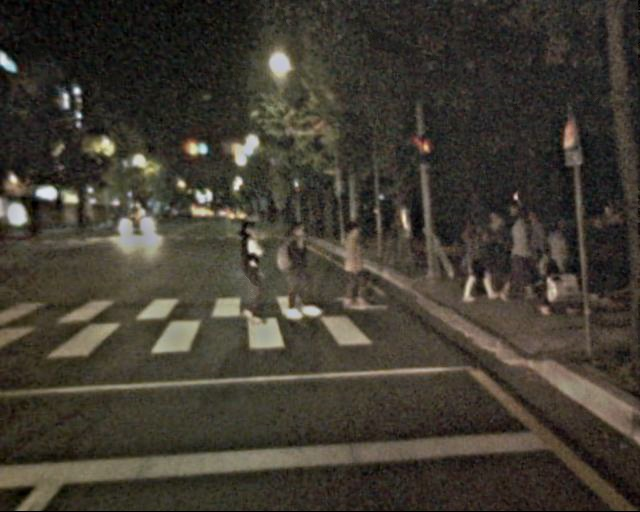person: (461, 209, 547, 297), (227, 218, 270, 322), (540, 216, 582, 318), (276, 220, 317, 319), (333, 220, 371, 313)
